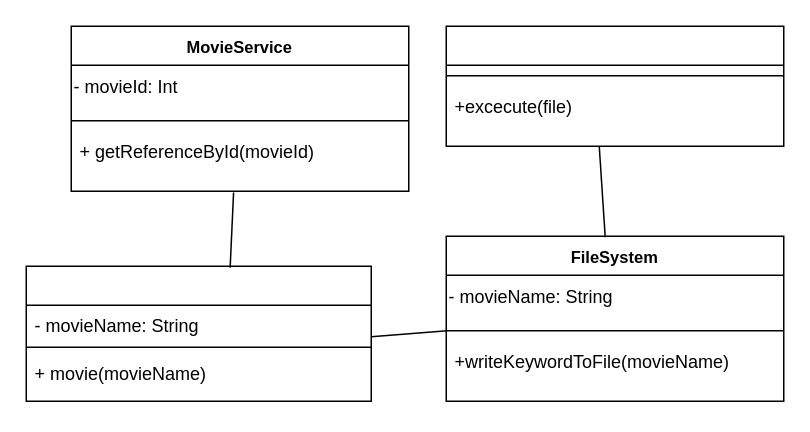
Some shapes in this 810 by 432 pixel diagram are drawn without their labels. The shapes that lost their labels are listed below. From the top down, each one's box as (x1, y1, x2, y2) in pixels, then its label:
(445, 25, 784, 146): PythonScript
(25, 265, 371, 401): RecommendController <<Controller>>
